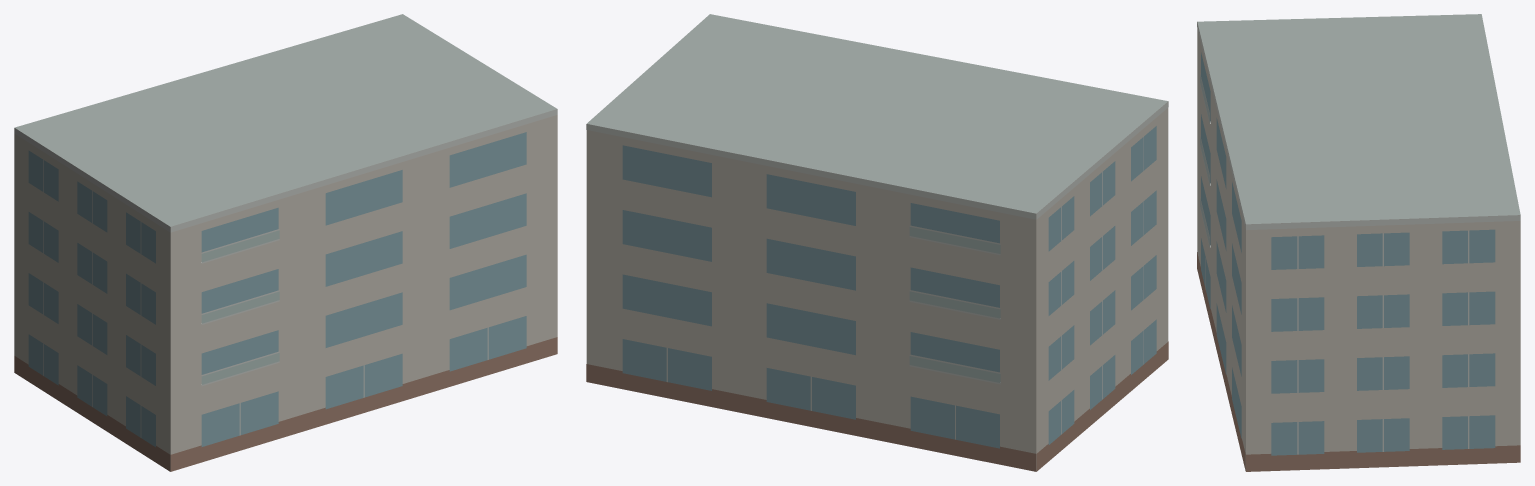
Rendered from survey-upis-32758388.glb.
3 views of the same model, side by side, from view 1: azimuth 30°, elevation 25°; view 2: azimuth 150°, elevation 25°; view 3: azimuth 270°, elevation 25° (orthographic). The views are drawn at different scales.
Parts seen in each view (by area): view 1: survey-upis-32758388.tmp; view 2: survey-upis-32758388.tmp; view 3: survey-upis-32758388.tmp.
Boxes of the visible parts, x1,y1,x2,y2 form: survey-upis-32758388.tmp: [14, 14, 557, 471]; survey-upis-32758388.tmp: [586, 14, 1168, 471]; survey-upis-32758388.tmp: [1197, 14, 1520, 471].
Bounding box in the file's own units: 18.68 × 10.25 × 12.14.
